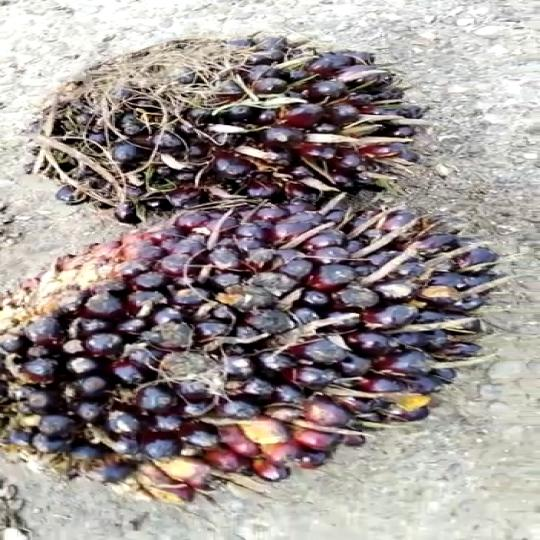mentah: (0, 198, 473, 499), (51, 32, 432, 211)
